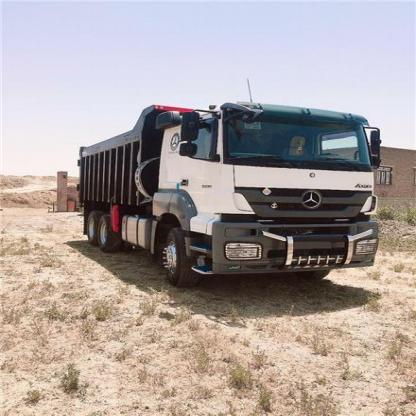Truck: (69, 90, 391, 306)
